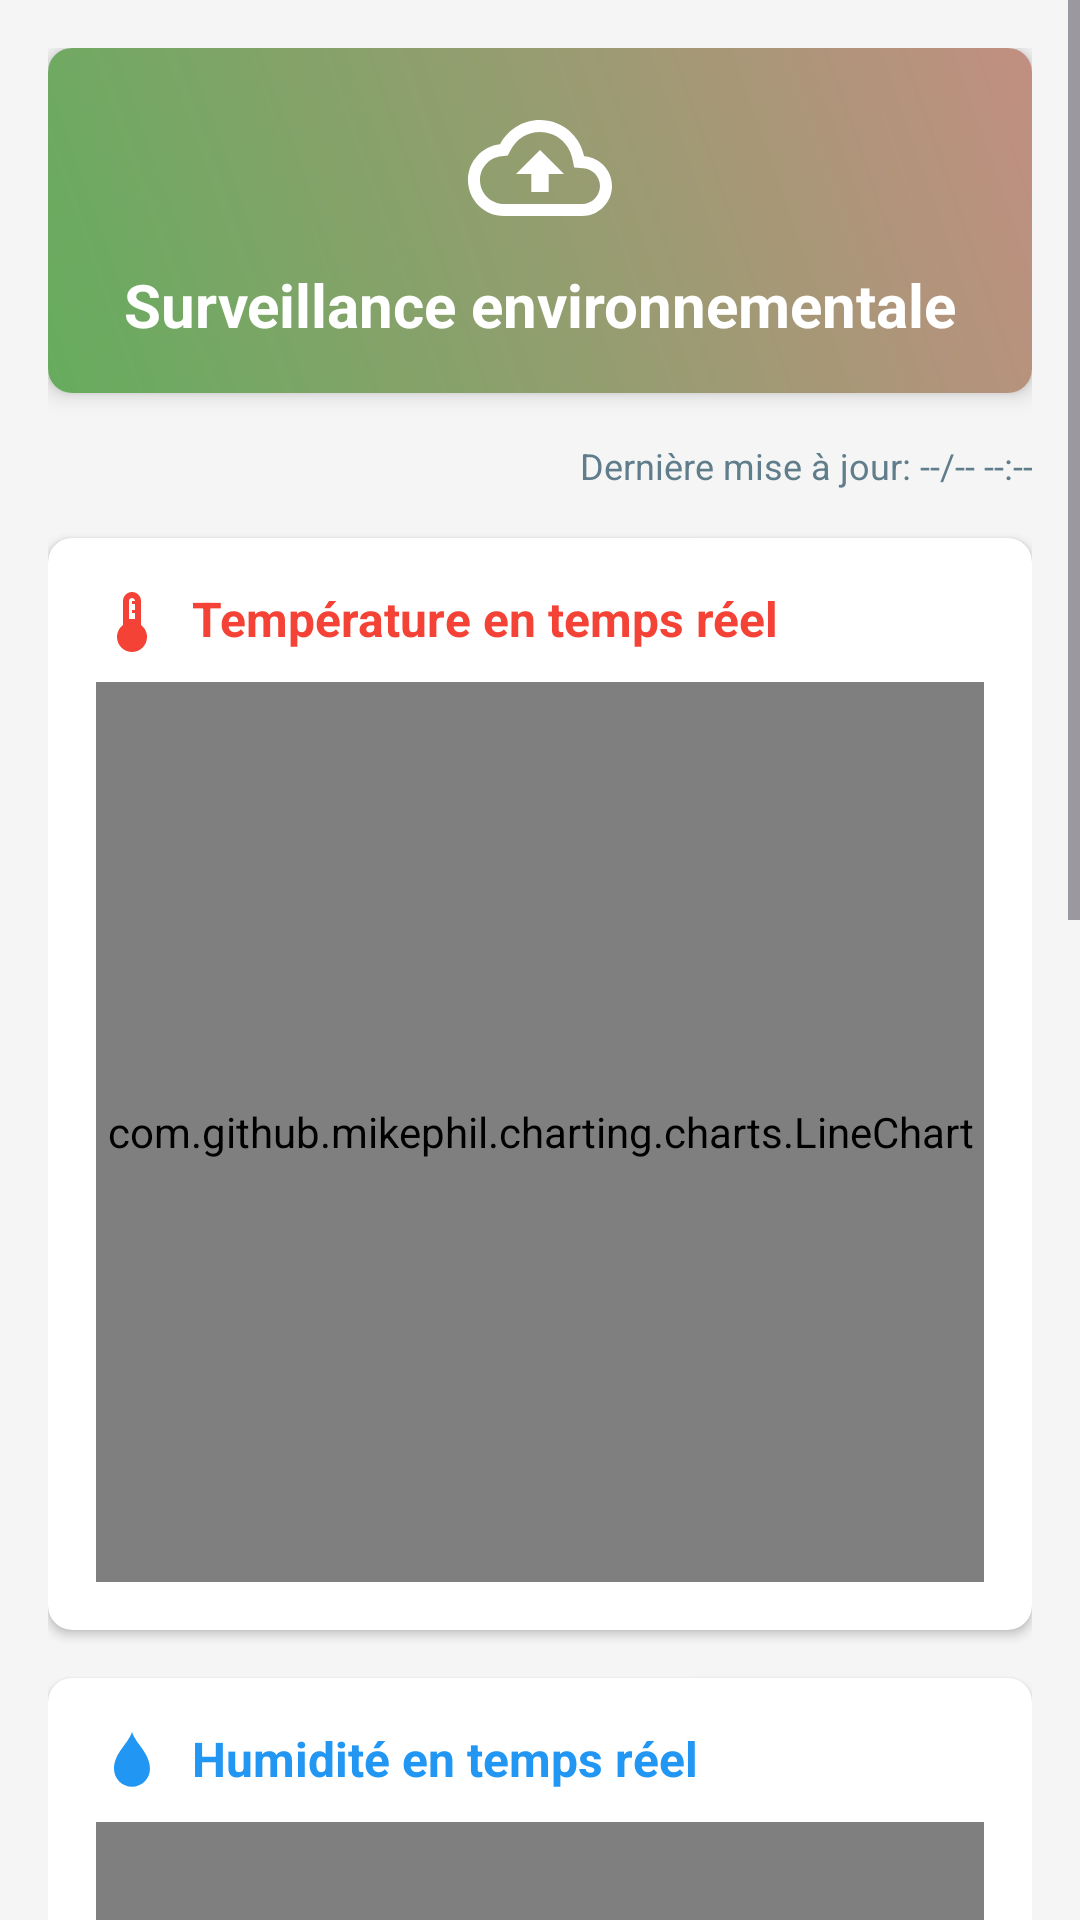

Icon click points for this 1080 x 1920 phone screenshot, format (x=x, y=y):
thermometer: (x=132, y=622)
water drop: (x=132, y=1759)
